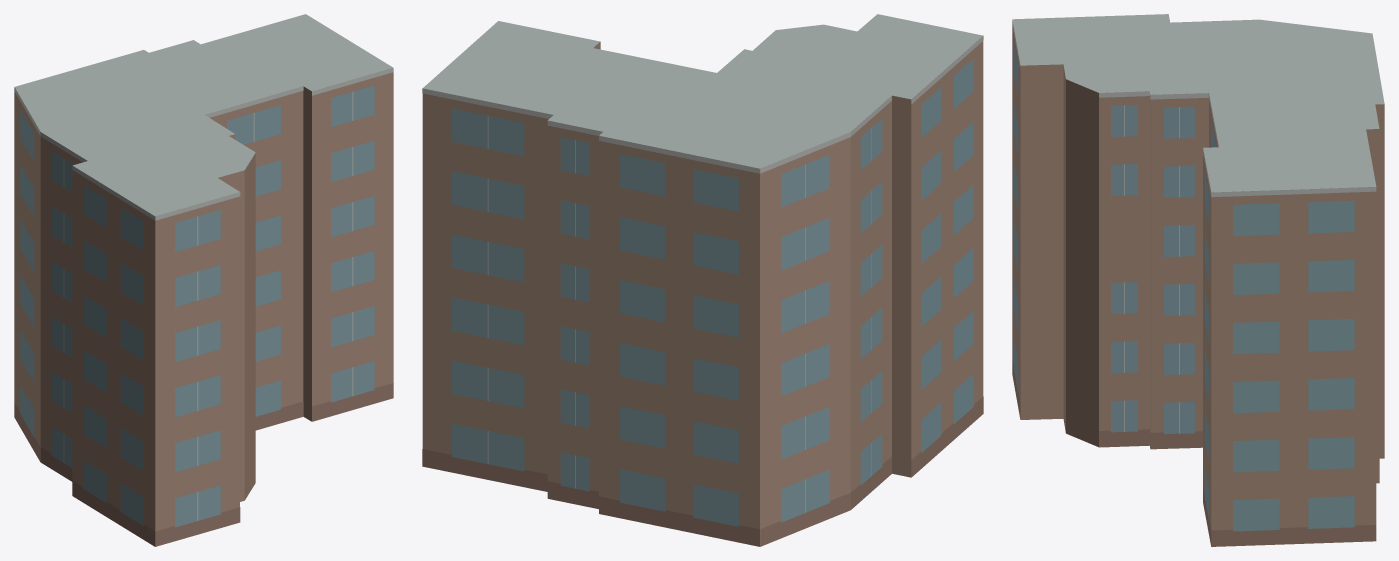
The model's file is survey-upis-33004470.glb.
3 views of the same model, side by side, from view 1: azimuth 30°, elevation 25°; view 2: azimuth 150°, elevation 25°; view 3: azimuth 270°, elevation 25° (orthographic). The views are drawn at different scales.
Visible parts, largest first — view 1: survey-upis-33004470.tmp; view 2: survey-upis-33004470.tmp; view 3: survey-upis-33004470.tmp.
Part boxes in pixels (<box>): survey-upis-33004470.tmp: <box>14,14,393,546</box>; survey-upis-33004470.tmp: <box>422,14,983,546</box>; survey-upis-33004470.tmp: <box>1012,14,1384,546</box>.
Size of the model in its own units: 19.77 by 18.3 by 17.44.
